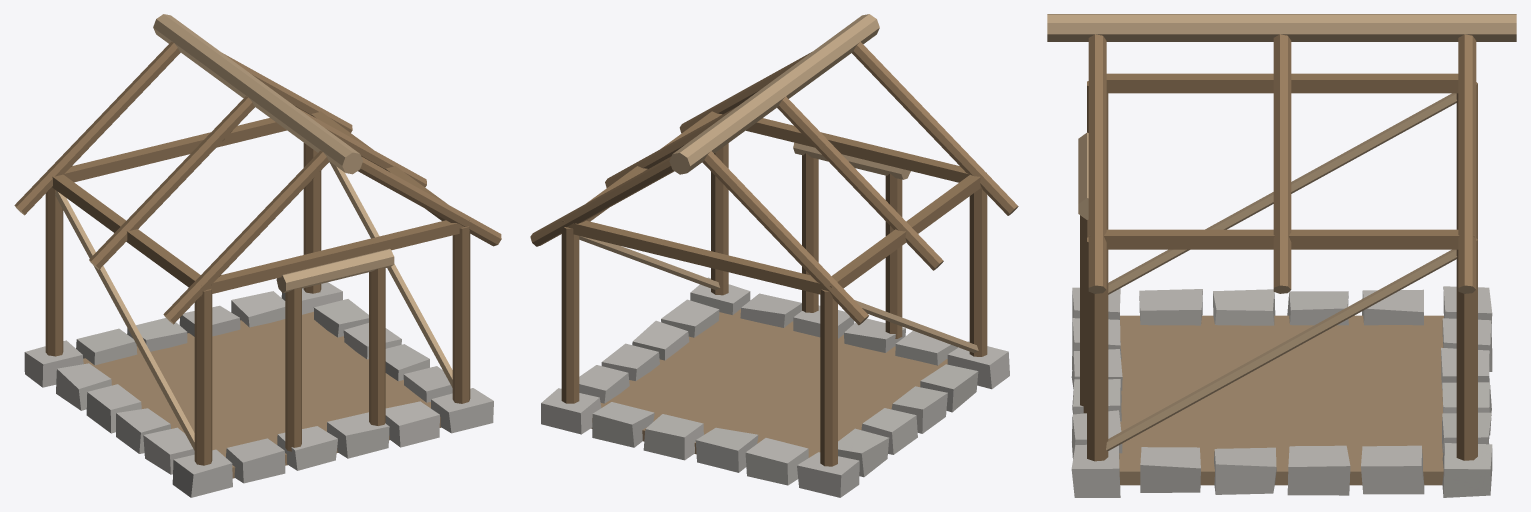
File: building_workshop_shed_frame.glb
3 views of the same model, side by side, from view 1: azimuth 30°, elevation 25°; view 2: azimuth 150°, elevation 25°; view 3: azimuth 270°, elevation 25° (orthographic). The views are drawn at different scales.
Parts seen in each view (by area): view 1: building_workshop_shed_frame; view 2: building_workshop_shed_frame; view 3: building_workshop_shed_frame.
Part boxes in pixels (x1,y1,x2,y2): building_workshop_shed_frame: (14,14,501,497); building_workshop_shed_frame: (530,14,1018,497); building_workshop_shed_frame: (1047,14,1516,497).
Bounding box in the file's own units: 3.85 × 3.47 × 3.76.
